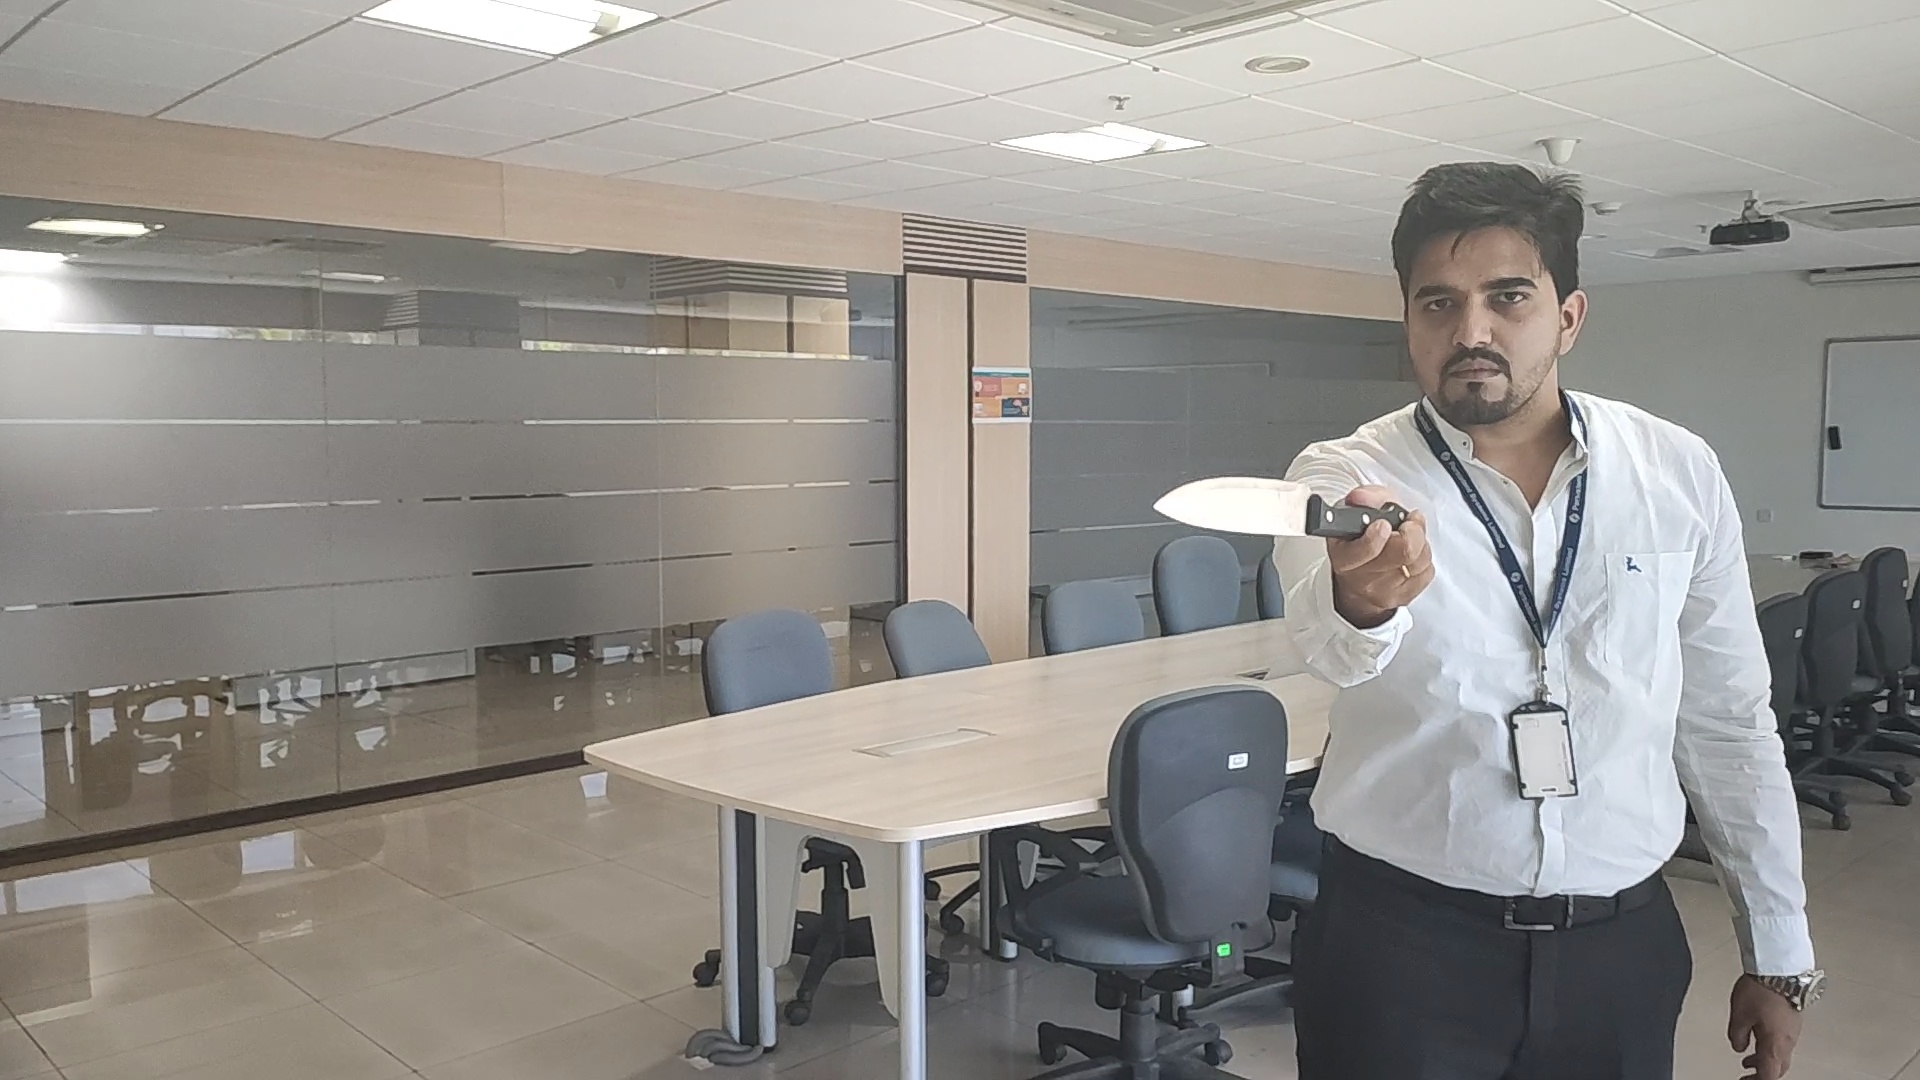knife: (1154, 473, 1371, 539)
